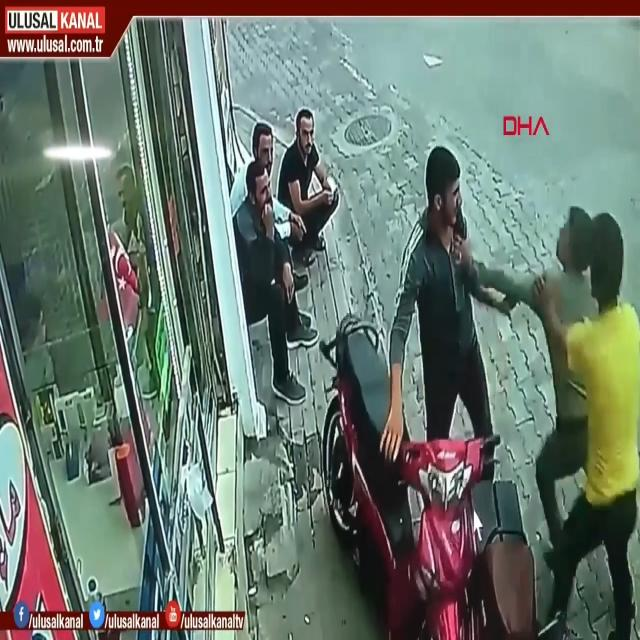fight: (424, 141, 594, 541)
